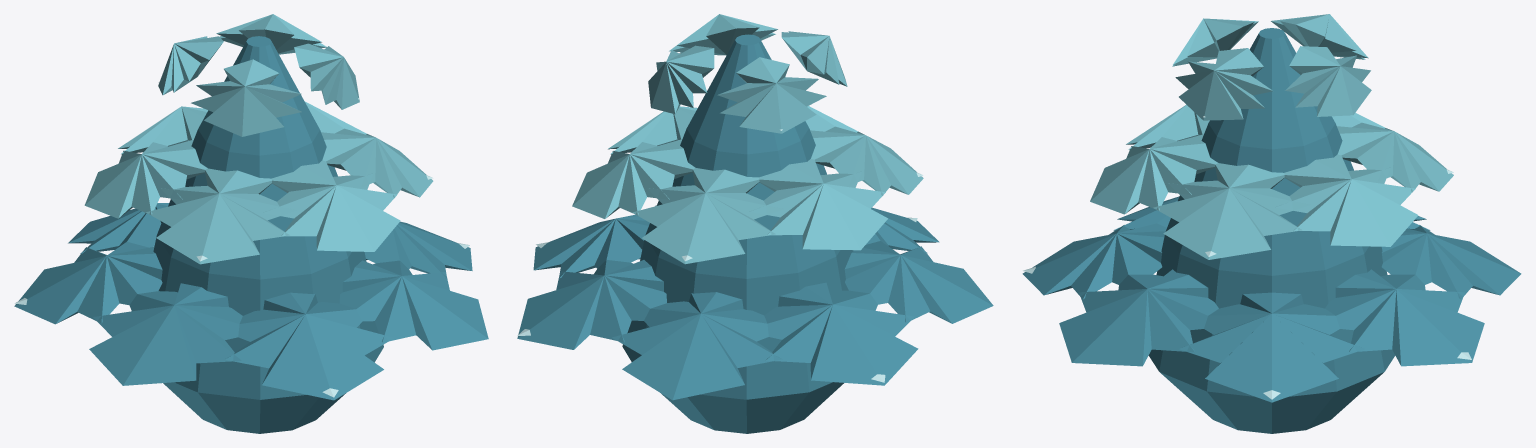
The model's file is FrostFernLeaves.glb.
3 renders of one model, left to right at view 1: azimuth 30°, elevation 25°; view 2: azimuth 150°, elevation 25°; view 3: azimuth 270°, elevation 25°, orthographic. The views are drawn at different scales.
Parts seen in each view (by area): view 1: FrostFernLeaves_FrostFernFoliage, FrostFernLeaves_FrostFernNewGrowth; view 2: FrostFernLeaves_FrostFernFoliage, FrostFernLeaves_FrostFernNewGrowth; view 3: FrostFernLeaves_FrostFernFoliage, FrostFernLeaves_FrostFernNewGrowth.
Boxes of the visible parts, box(x1,y1,x2,y2) form: FrostFernLeaves_FrostFernFoliage: box(14, 36, 488, 433); FrostFernLeaves_FrostFernNewGrowth: box(84, 14, 433, 264); FrostFernLeaves_FrostFernFoliage: box(517, 34, 993, 433); FrostFernLeaves_FrostFernNewGrowth: box(572, 14, 923, 264); FrostFernLeaves_FrostFernFoliage: box(1022, 28, 1521, 433); FrostFernLeaves_FrostFernNewGrowth: box(1090, 14, 1453, 259).
Bounding box in the file's own units: 3.23 × 2.8 × 3.4.
